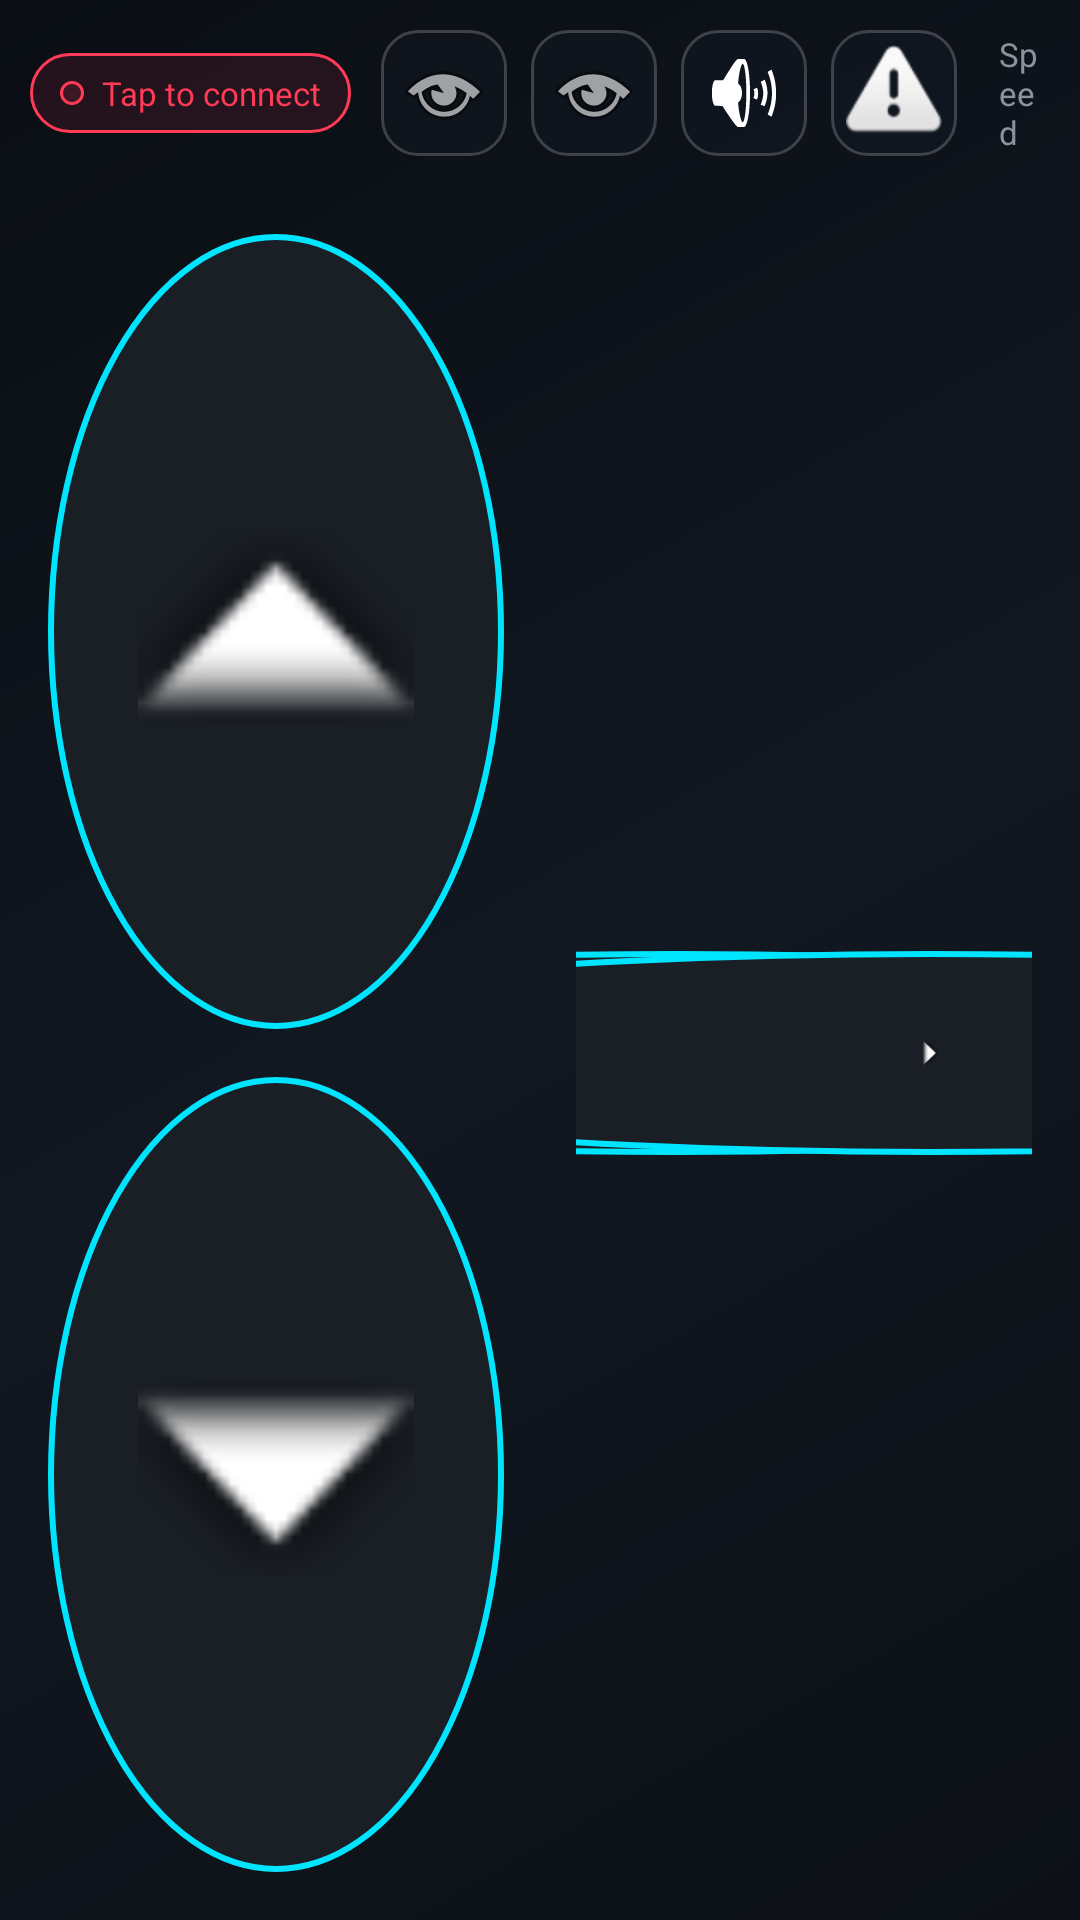

Icons on this 1080×1920 Android screen, each with the point to tap as (x=x, y=y):
Hazard: (x=894, y=93)
Horn: (x=744, y=93)
